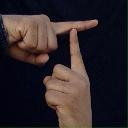hand: (0, 13, 98, 66), (42, 28, 93, 127)
